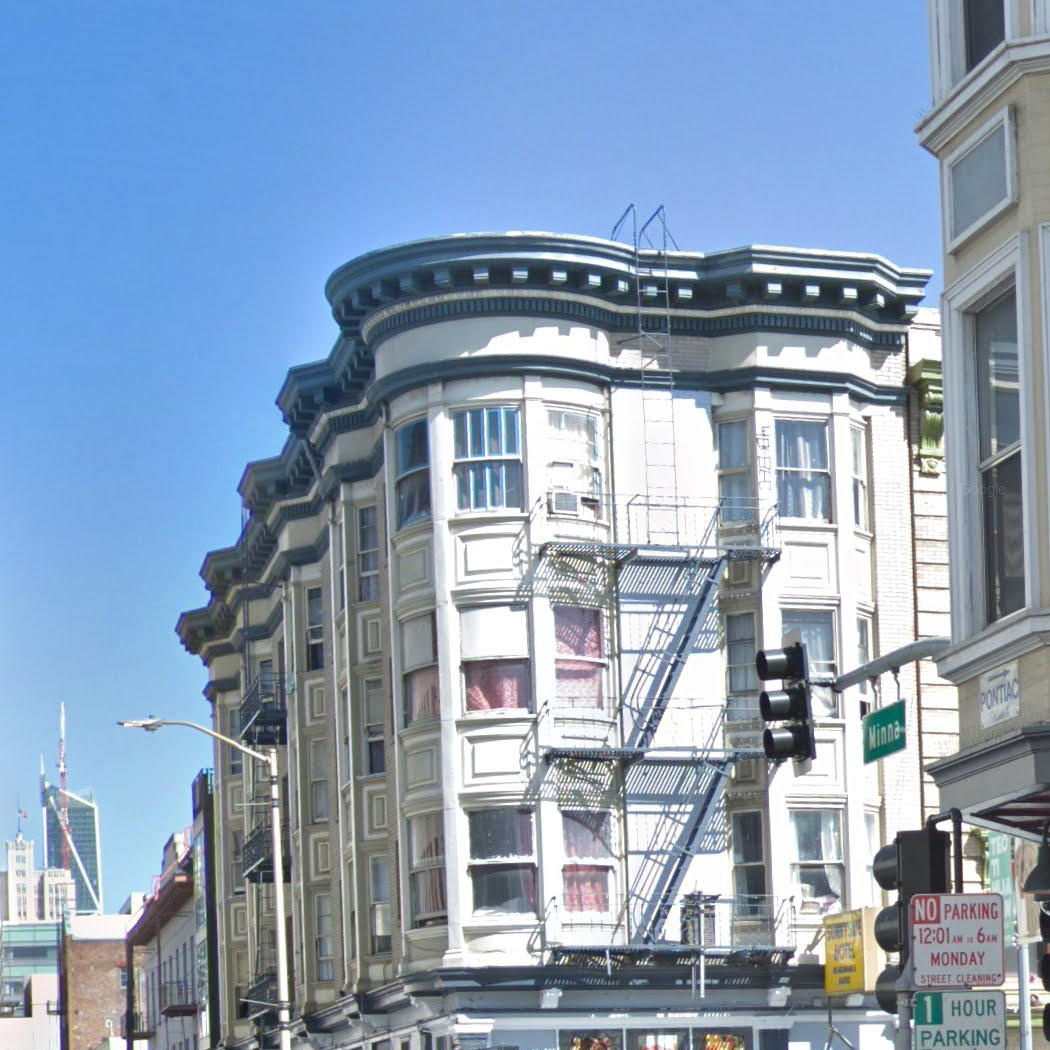1 Hour Parking: (910, 989, 1009, 1050)
No Parking: (905, 890, 1009, 991)
